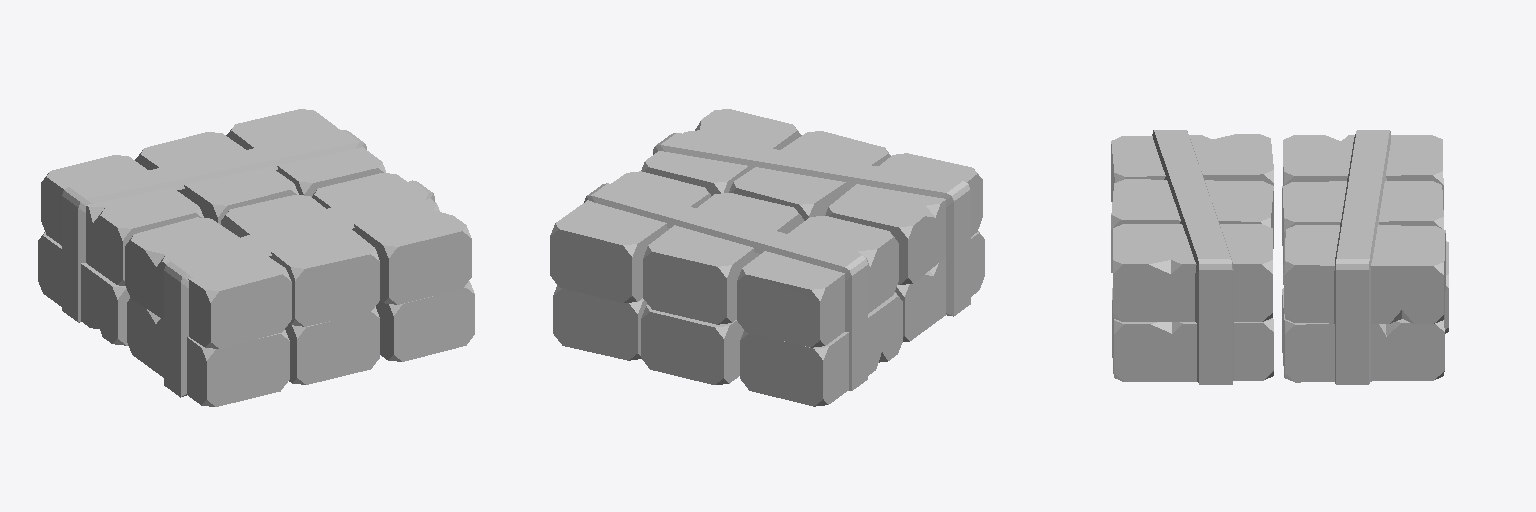
Rendered from Stone_Bricks_Stack_Medium.obj.
The picture shows the model from 3 angles: view 1: azimuth 30°, elevation 25°; view 2: azimuth 150°, elevation 25°; view 3: azimuth 270°, elevation 25°; orthographic projection.
Parts seen in each view (by area): view 1: Stone_Bricks_Stack_Medium; view 2: Stone_Bricks_Stack_Medium; view 3: Stone_Bricks_Stack_Medium.
Part boxes in pixels (x1,y1,x2,y2): Stone_Bricks_Stack_Medium: (38,109,474,406); Stone_Bricks_Stack_Medium: (550,109,984,406); Stone_Bricks_Stack_Medium: (1111,130,1448,384).
Bounding box in the file's own units: 1.51 × 0.6332 × 1.59.